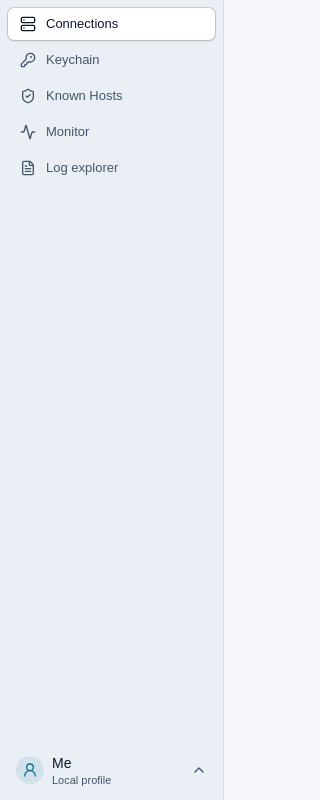
Test: WorkbenchSidebar › switches to a loading download label when an update is found
Click the button with aria-label "Open user menu".
click(112, 770)  # box [8,747,215,792]
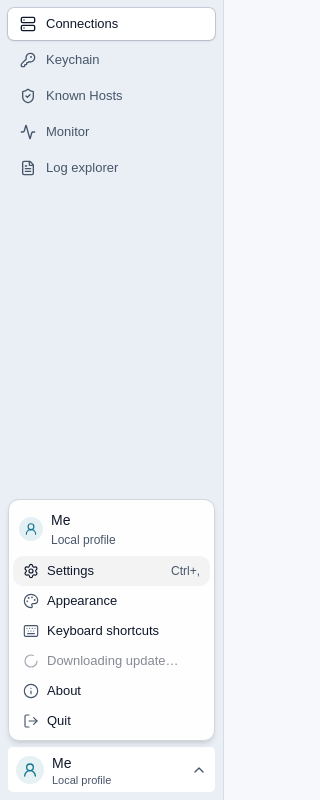
Check: the message named "Loading" is shown, box [23,653,39,669]
